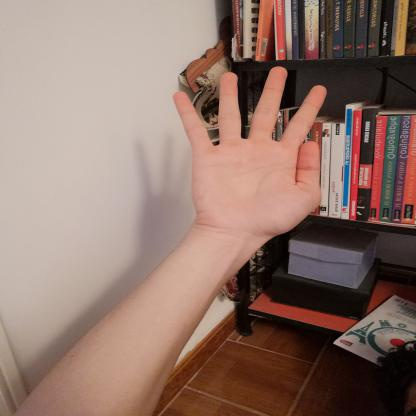SHEEN: (164, 61, 338, 242)
